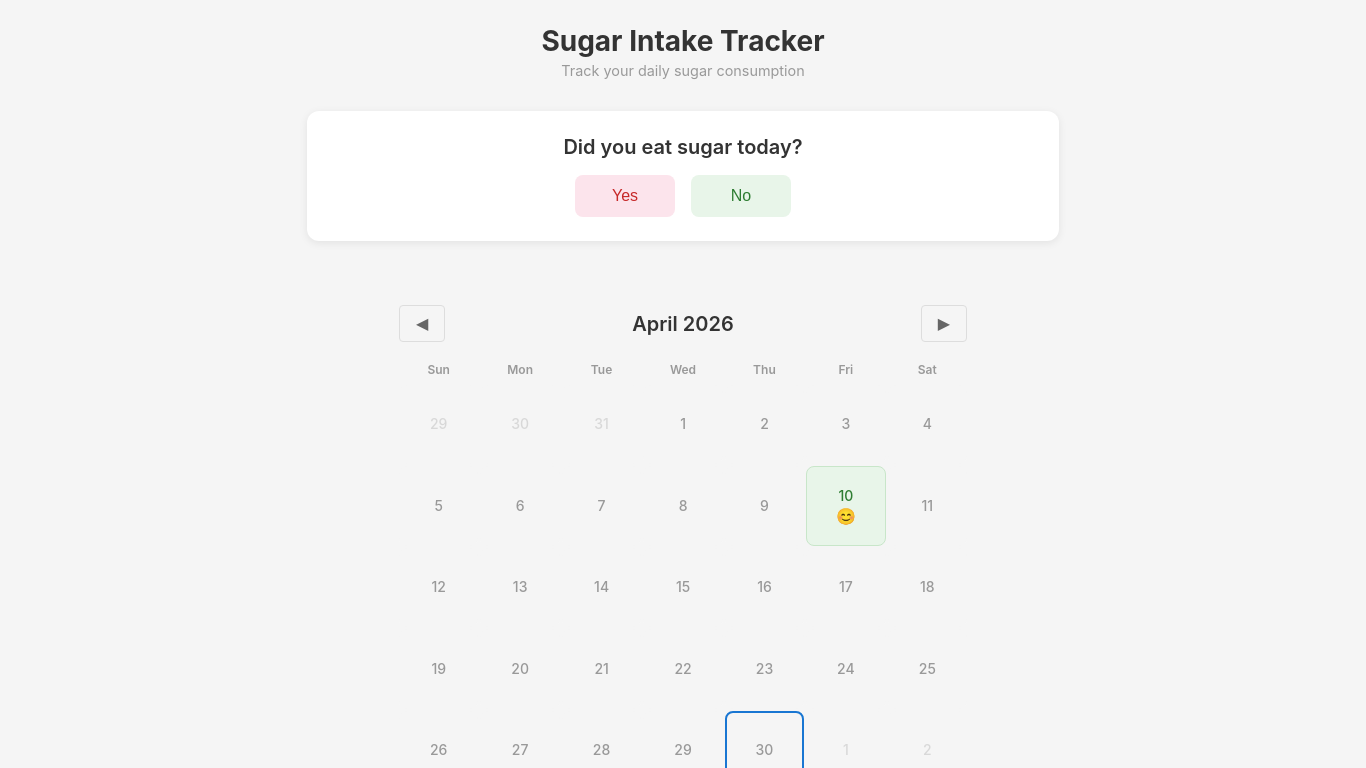
Scenario: App integration – user flows › update flow: click day → update via dialog → calendar reflects change
Click day 10 to open UpdateDialog
Click the button "10 😊" at (846, 506), box [806, 466, 886, 546]
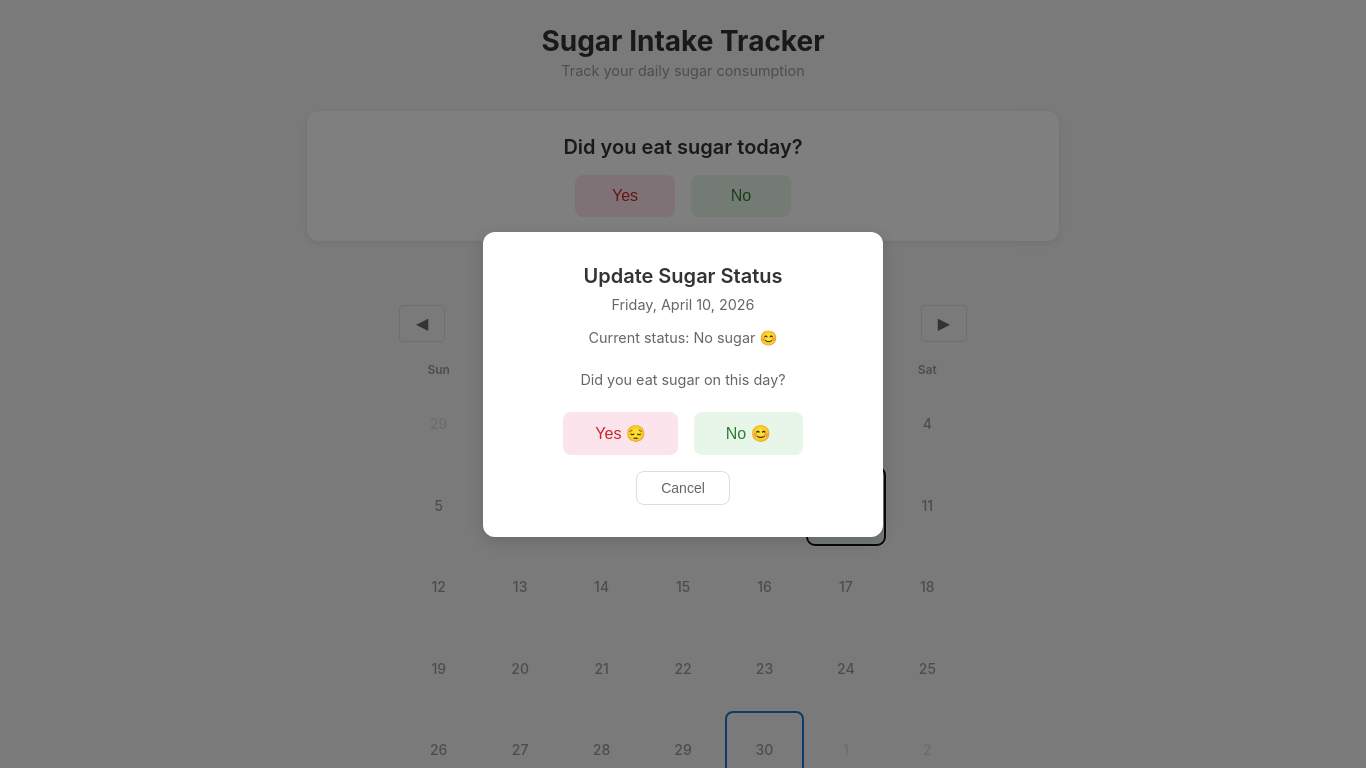
Check: the element with test id "update-dialog" is shown, box [483, 232, 883, 536]
Check: the text with test id "dialog-current-status" shows "No sugar", box [694, 328, 778, 346]
Click "Yes" in the dialog
Click the button with aria-label "Yes, sugar was consumed" at (621, 433), box [563, 412, 678, 454]
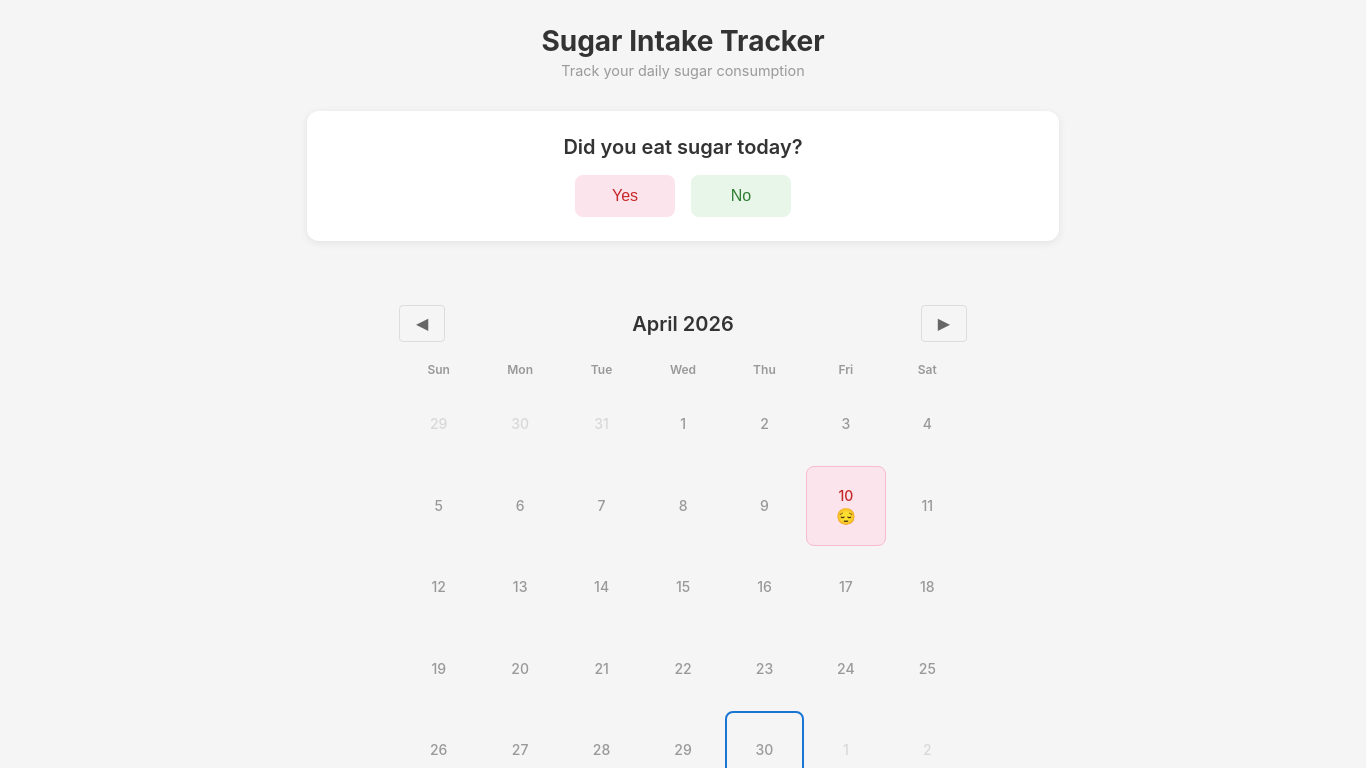
Check: the element with test id "update-dialog" is gone
